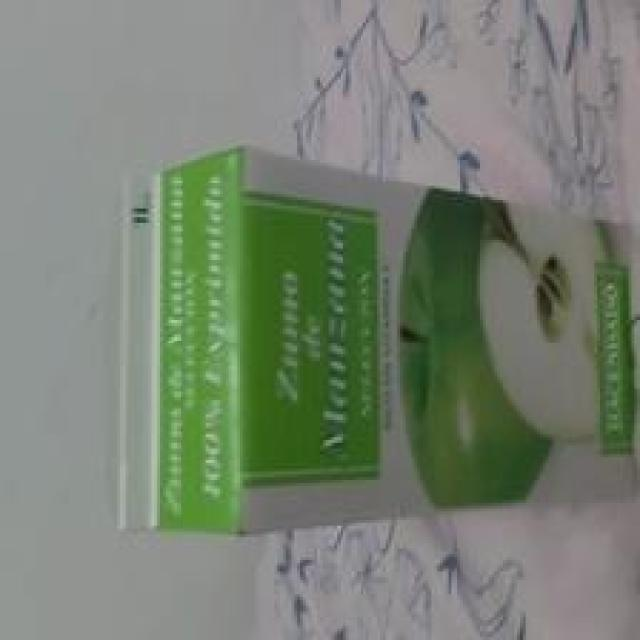PaperCardboard: (111, 146, 640, 541)
